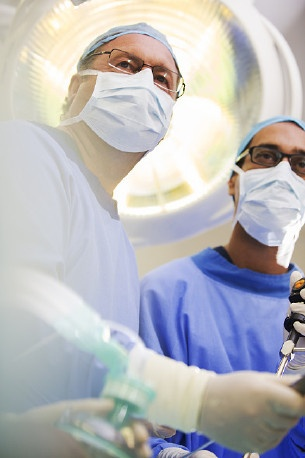Mask: (89, 46, 192, 149)
